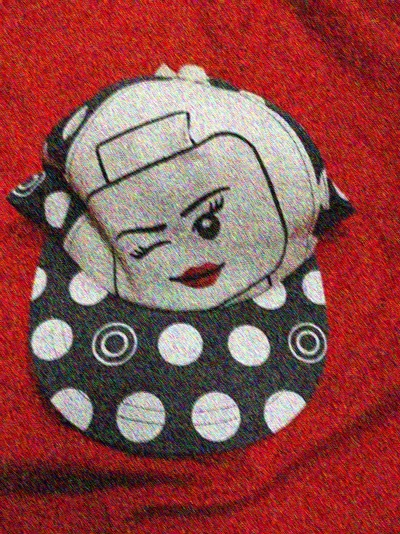Hat: (6, 53, 370, 479)
